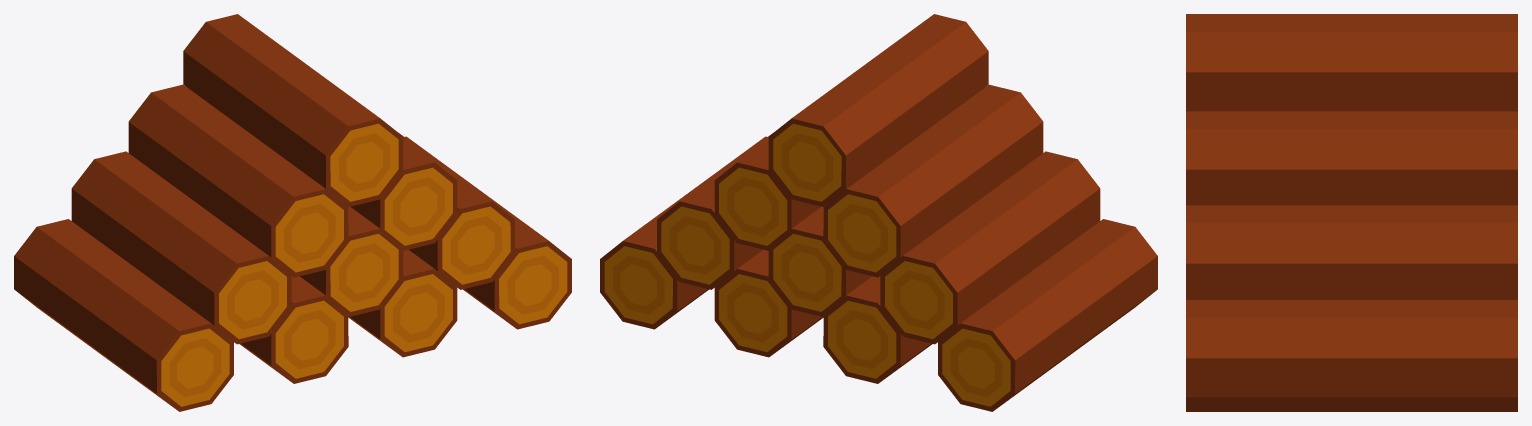
File: Small Log_4.fbx
3 renders of one model, left to right at view 1: azimuth 30°, elevation 25°; view 2: azimuth 150°, elevation 25°; view 3: azimuth 270°, elevation 25°, orthographic. The views are drawn at different scales.
Visible parts, largest first — view 1: Circle.047; view 2: Circle.047; view 3: Circle.047.
Part boxes in pixels (<box>): Circle.047: <box>14,14,571,411</box>; Circle.047: <box>600,14,1157,411</box>; Circle.047: <box>1186,14,1517,411</box>.
Bounding box in the file's own units: 39.52 × 22.24 × 23.54.
